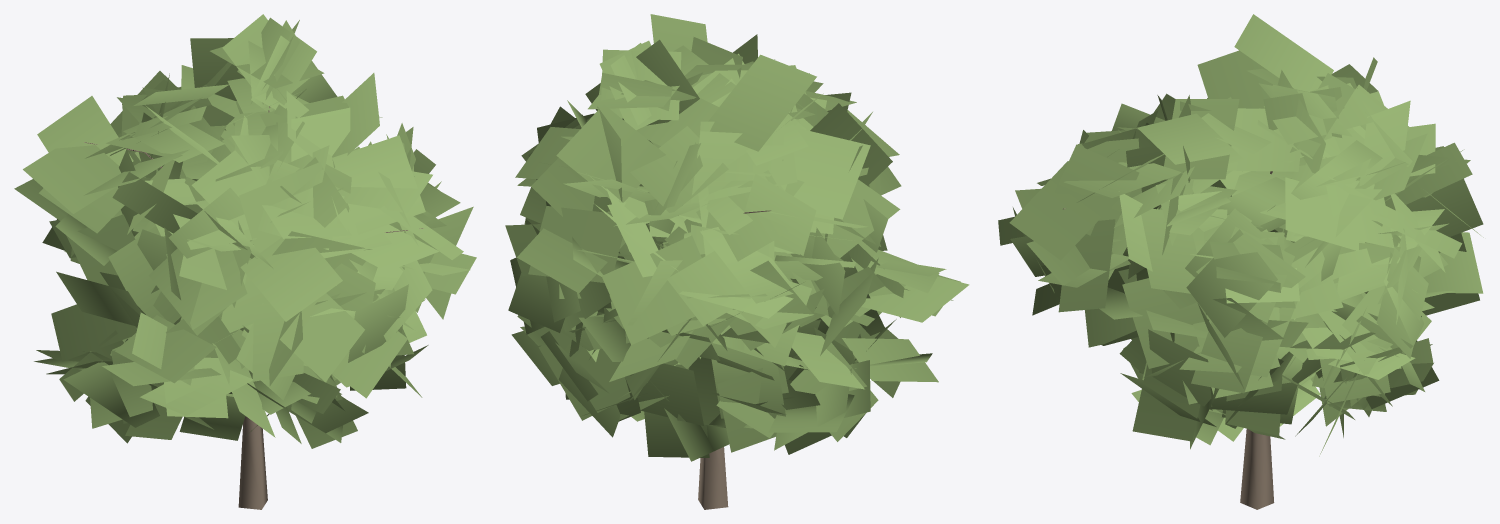
Rendered from Broadleaf_1_lod2.glb.
3 renders of one model, left to right at view 1: azimuth 30°, elevation 25°; view 2: azimuth 150°, elevation 25°; view 3: azimuth 270°, elevation 25°, orthographic. The views are drawn at different scales.
Visible parts, largest first — view 1: Broadleaf_1_lod2; view 2: Broadleaf_1_lod2; view 3: Broadleaf_1_lod2.
Boxes of the visible parts, bbox=[...] form: Broadleaf_1_lod2: bbox=[14, 14, 476, 509]; Broadleaf_1_lod2: bbox=[505, 14, 969, 509]; Broadleaf_1_lod2: bbox=[998, 14, 1483, 509].
Bounding box in the file's own units: 11.64 × 12.68 × 12.37.
